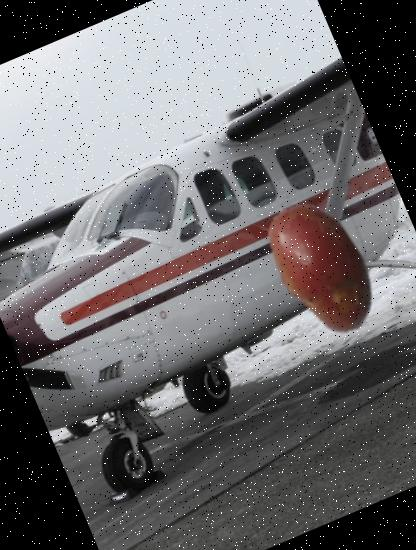Potato: (227, 174, 416, 362)
